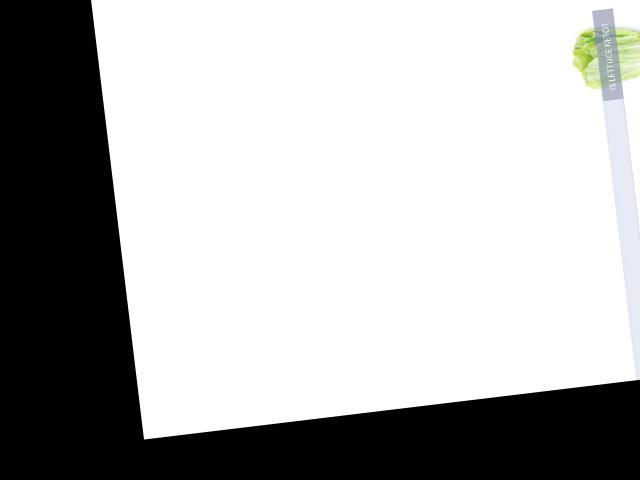lettuce: (568, 12, 640, 94)
